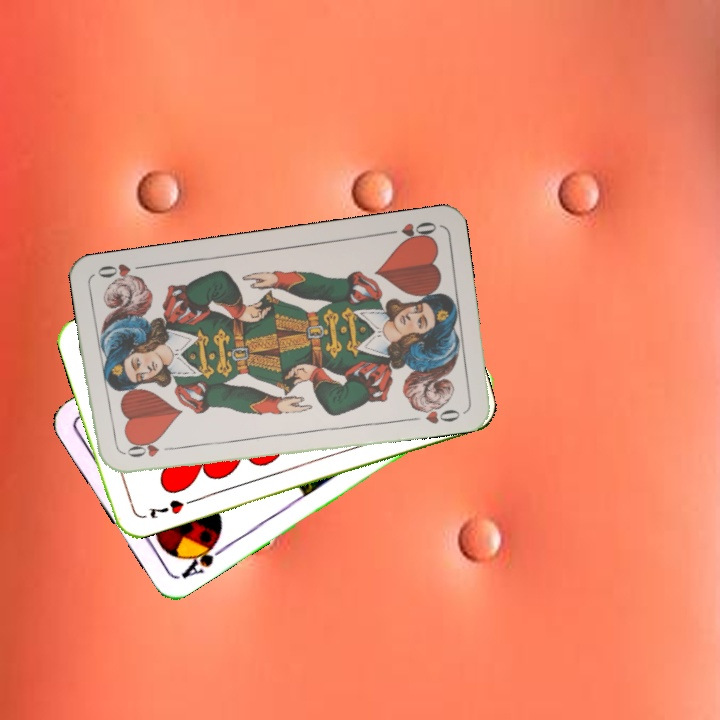H7: (144, 495, 196, 521)
HO: (381, 217, 439, 245), (119, 440, 178, 460)
SA: (176, 534, 228, 581)
